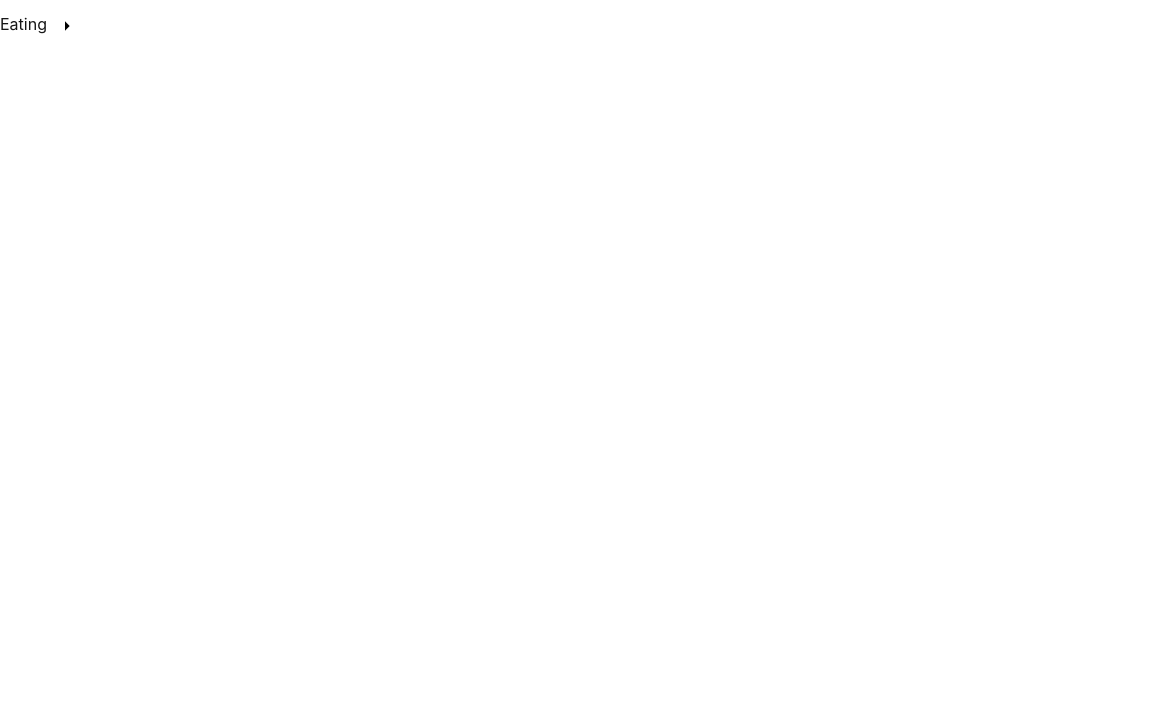
it: theme detail modal open and close › opens from a collapsed chevron row and closes on X, Escape, and backdrop
The width and height of the screenshot is (1152, 720).
Click the button with aria-label "Eating details" at point(23, 24), box [0, 0, 1151, 48]
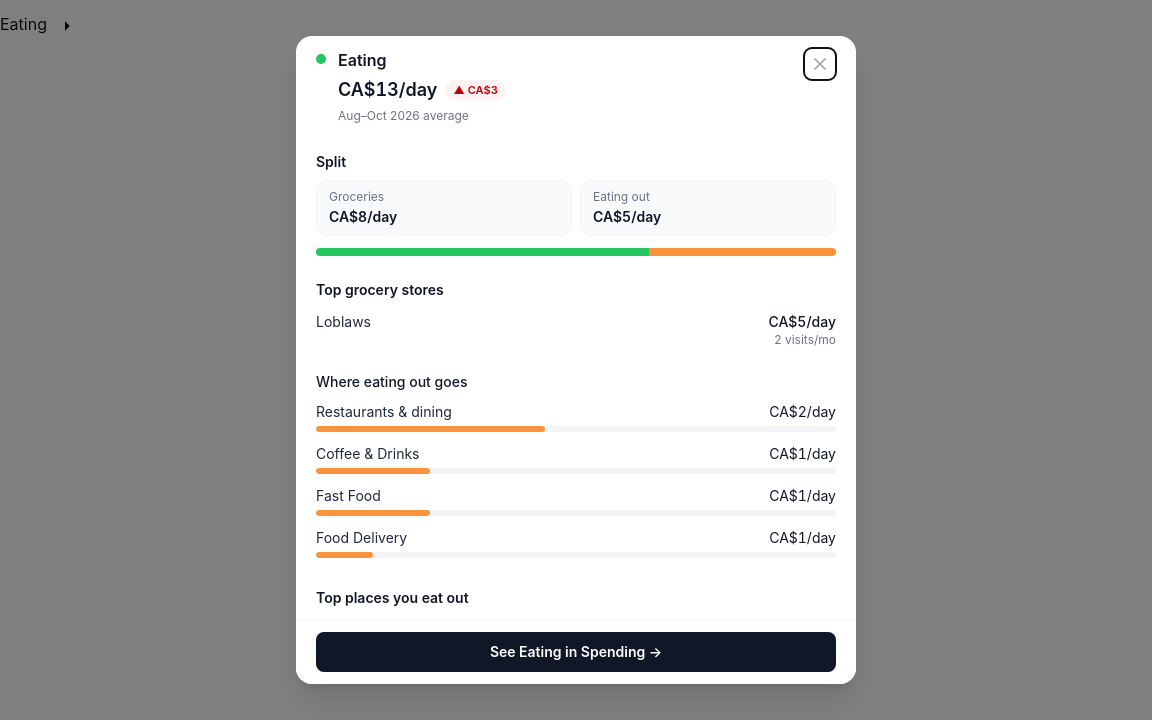
Result: the dialog is shown at [296, 36, 856, 684]
Result: the text "Aug–Oct 2026 average" is shown at [338, 108, 469, 123]
Result: the heading "Where eating out goes" is shown at [316, 373, 468, 390]
Click the button named "Close" at point(820, 64), box [804, 48, 836, 80]
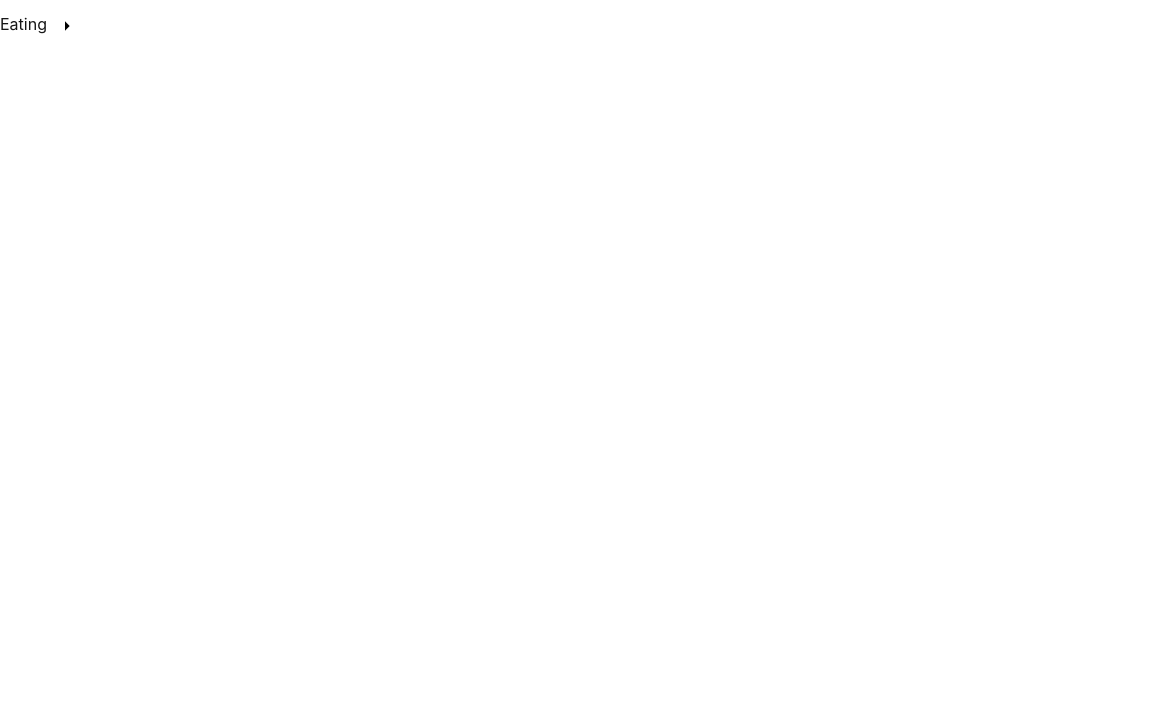
Result: the dialog is gone
Click the button with aria-label "Eating details" at point(23, 24), box [0, 0, 1151, 48]
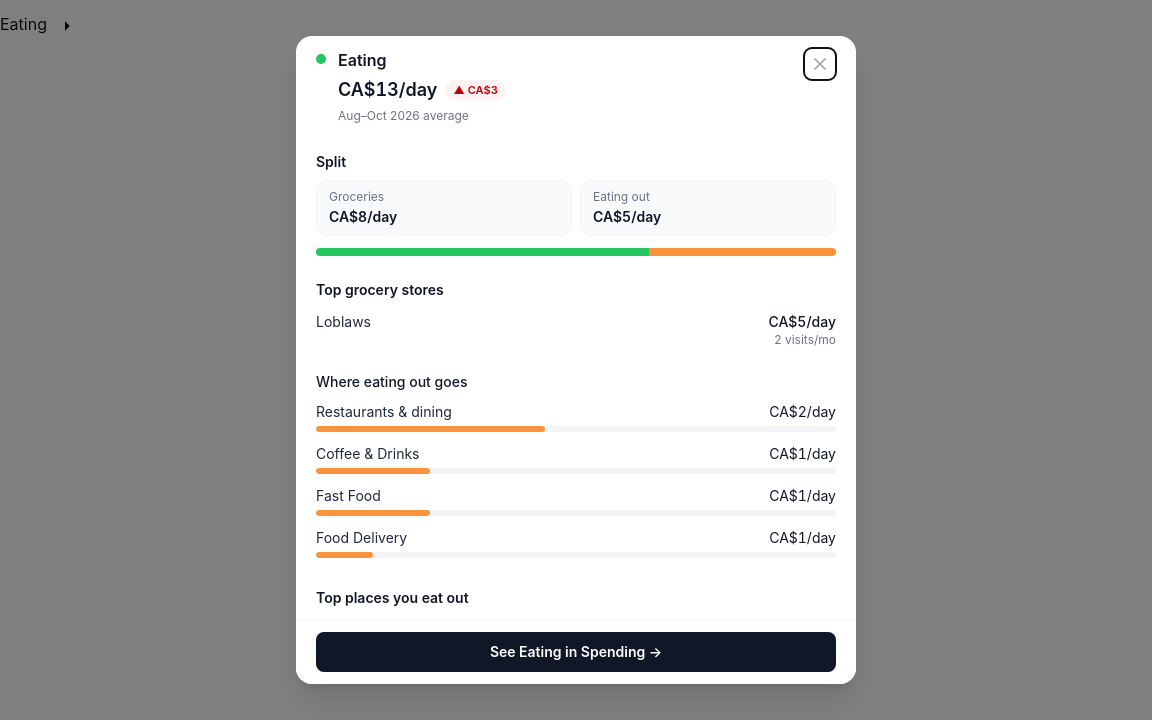
Result: the dialog is shown at [296, 36, 856, 684]
Press Escape
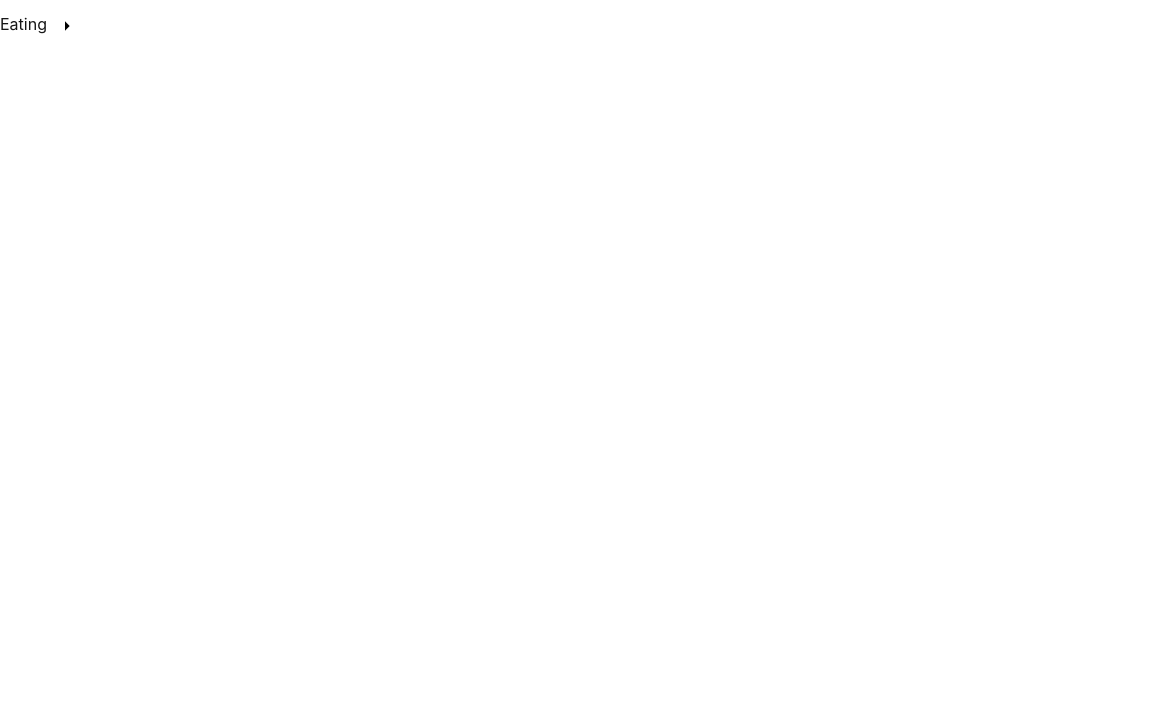
Result: the dialog is gone
Click the button with aria-label "Eating details" at point(23, 24), box [0, 0, 1151, 48]
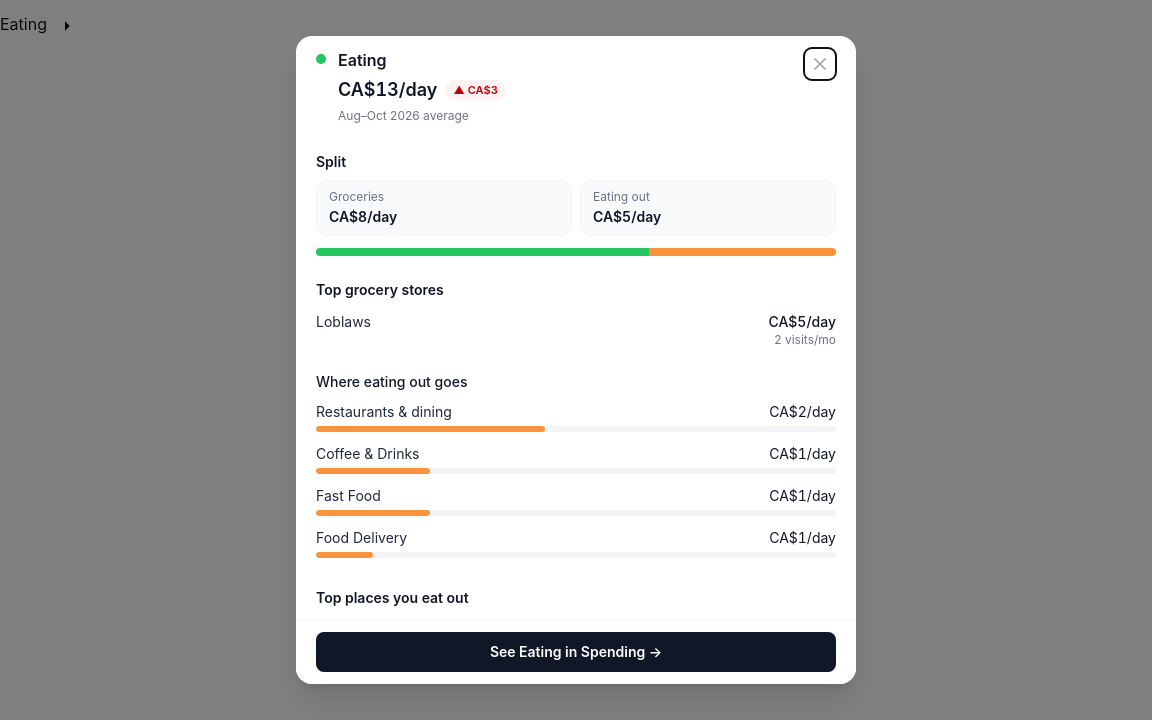
Click the element with test id "theme-detail-backdrop" at point(69, 360), box [0, 0, 1151, 719]
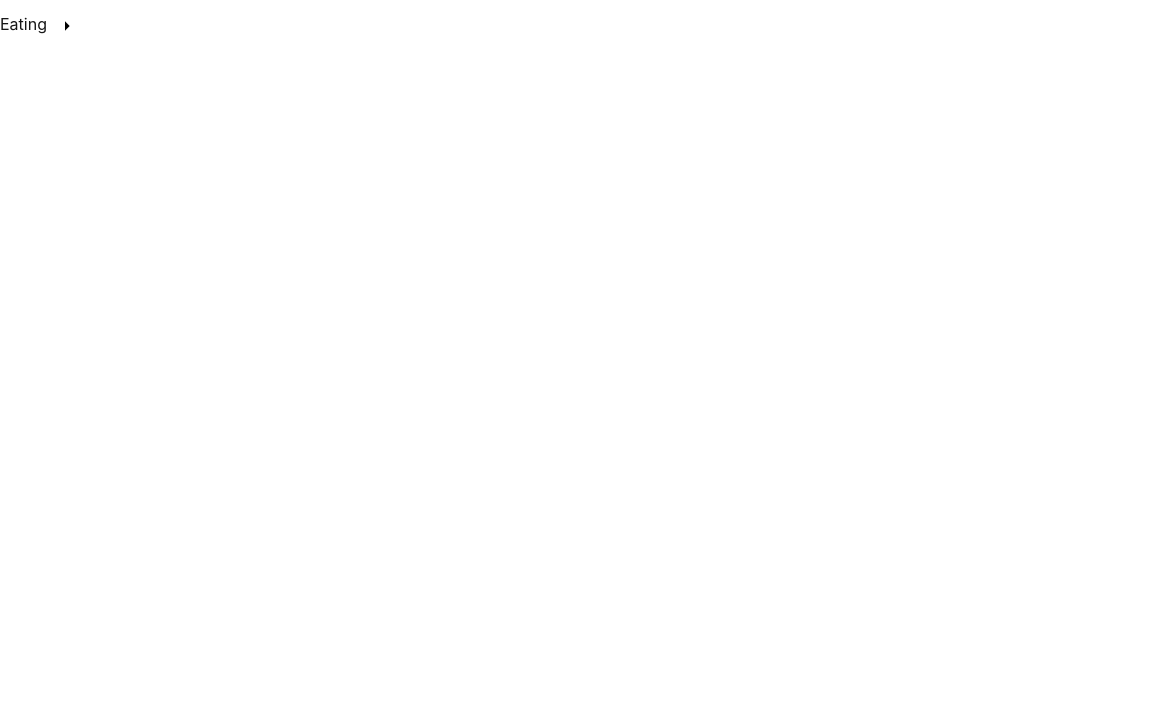
Result: the dialog is gone
